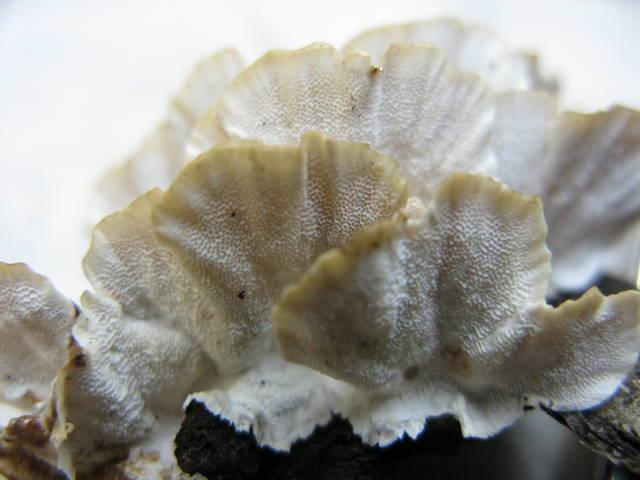Non-edible Mushroom: (0, 16, 639, 478)
